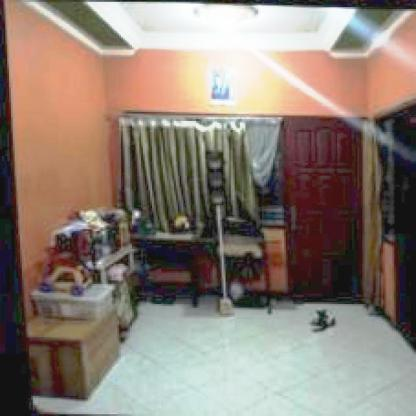Traffic Light -Yellow-: (200, 149, 224, 203)
